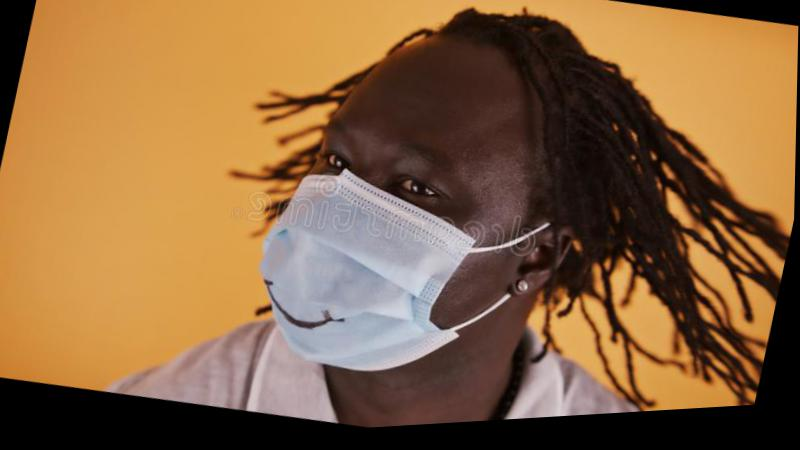OK: (247, 95, 524, 408)
